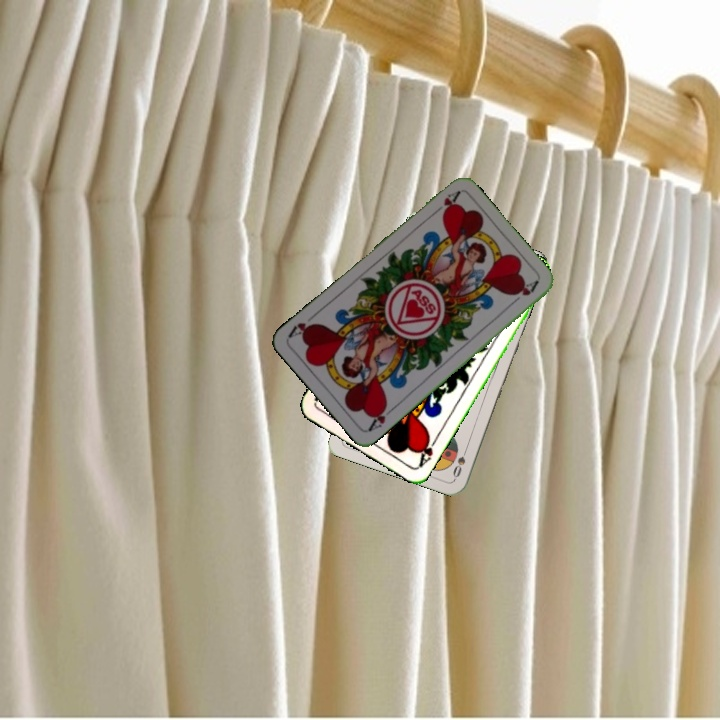HA: (365, 400, 398, 434), (428, 187, 463, 218), (414, 432, 441, 470)
SO: (449, 442, 470, 481)
